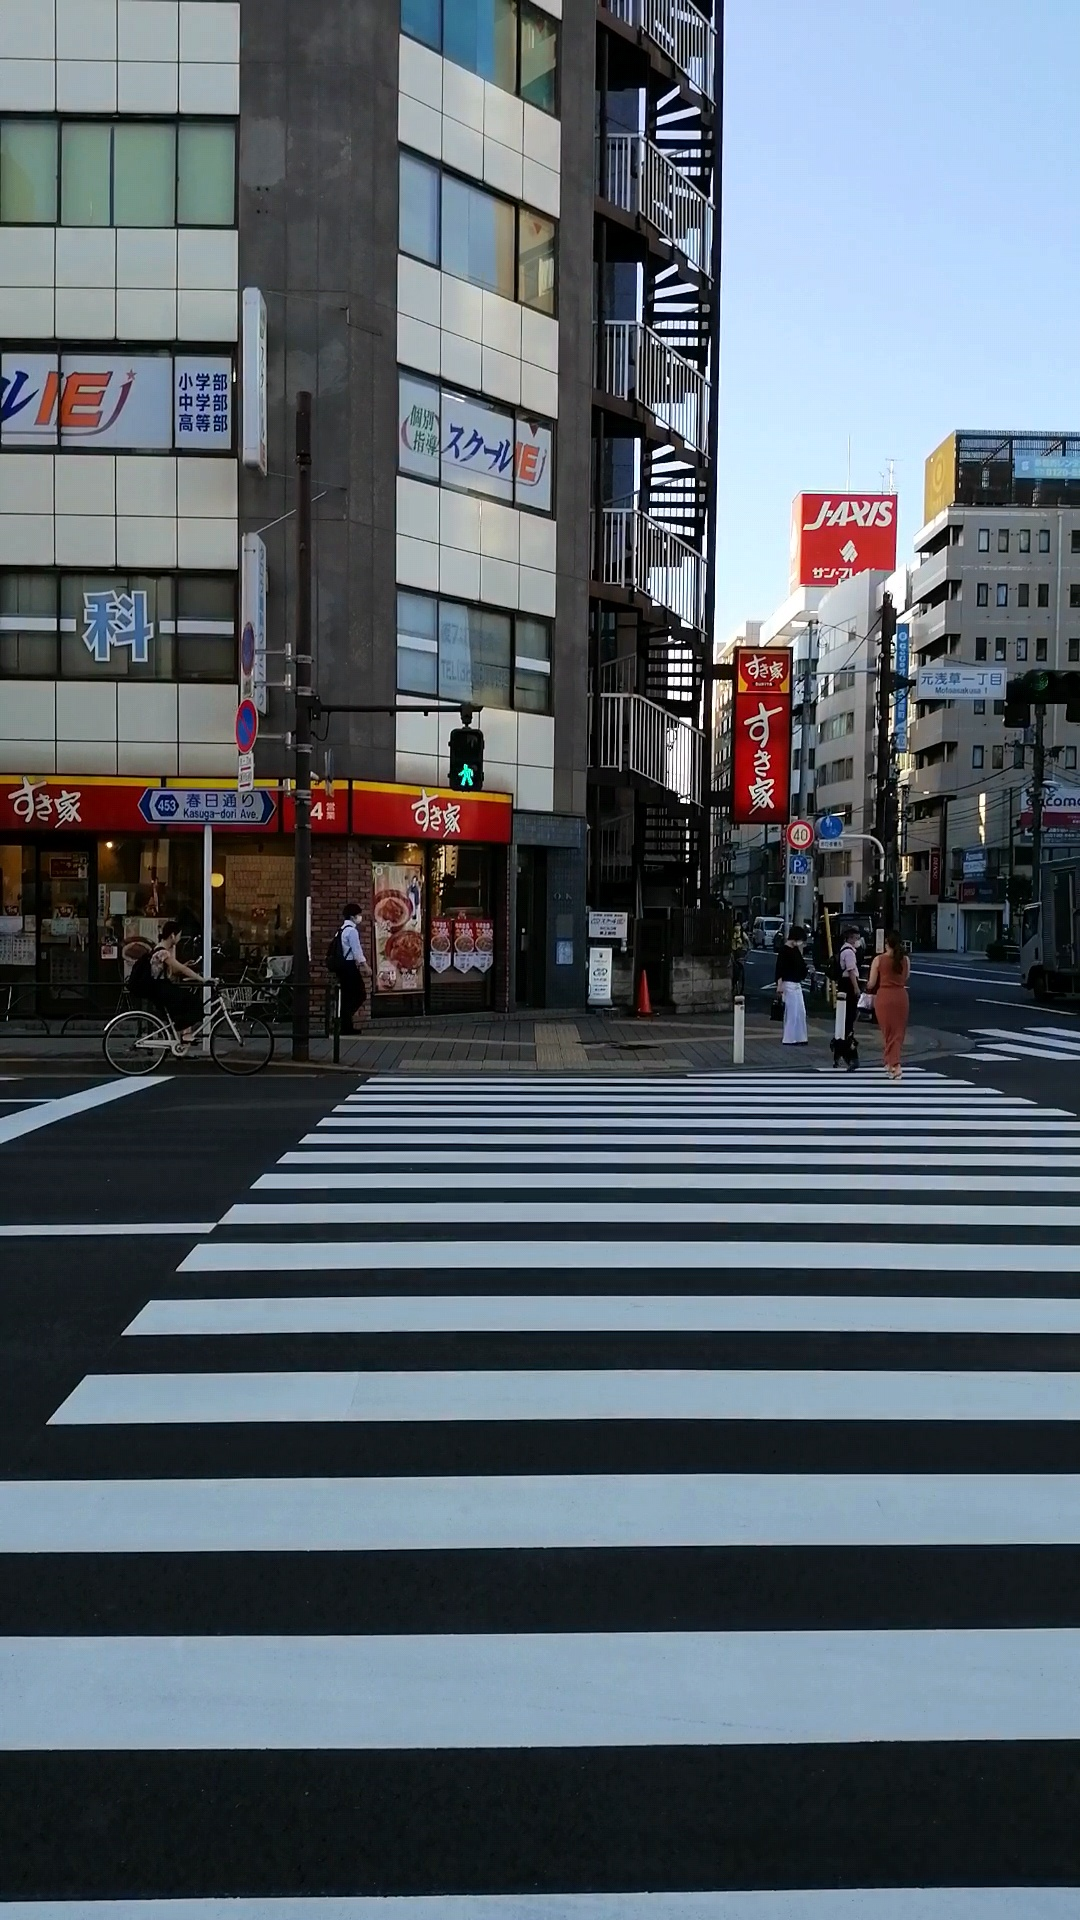green: (447, 727, 484, 793)
